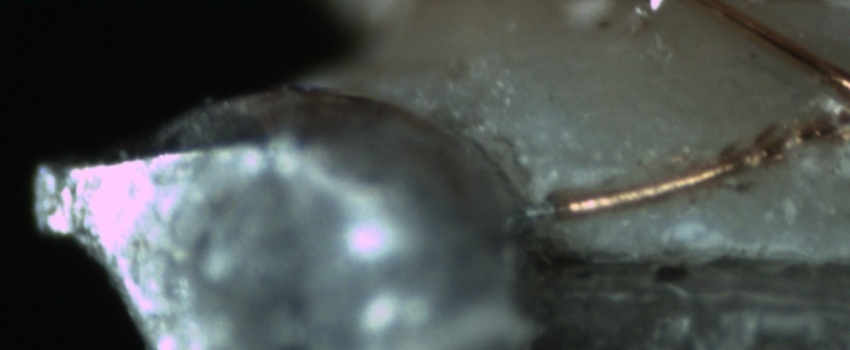TS: (519, 196, 553, 225)
